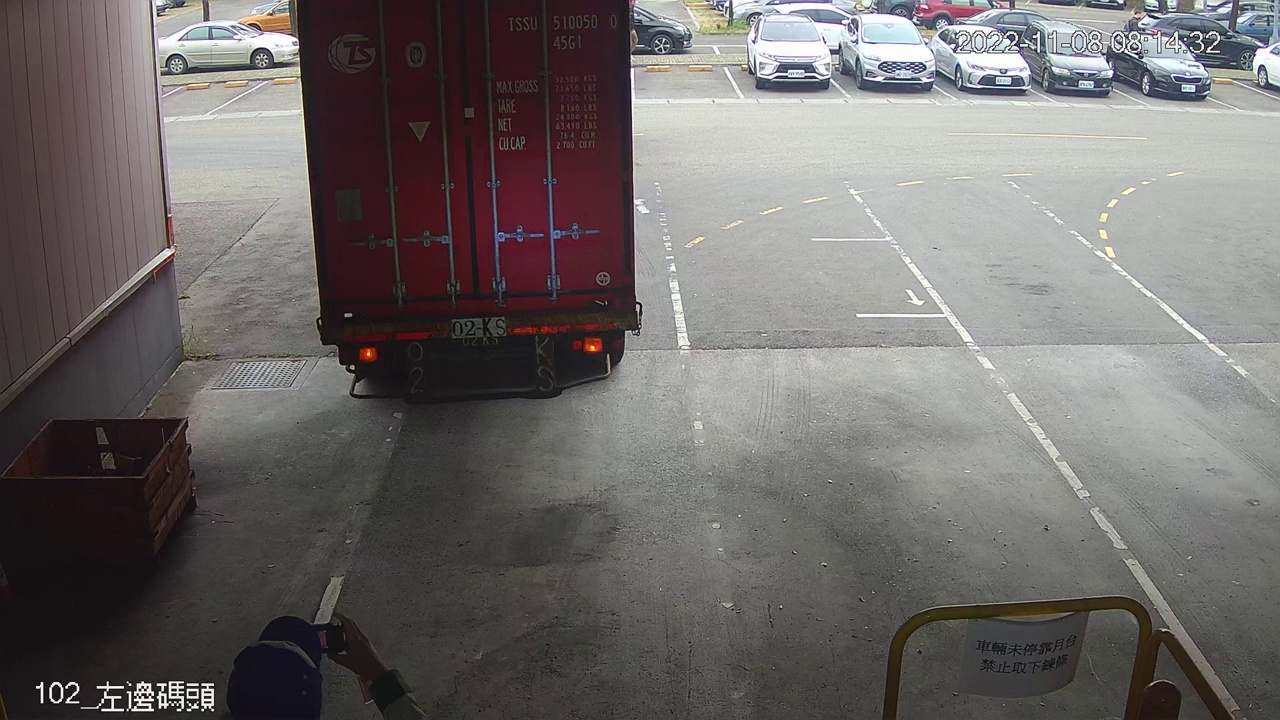container: (503, 5, 623, 57)
